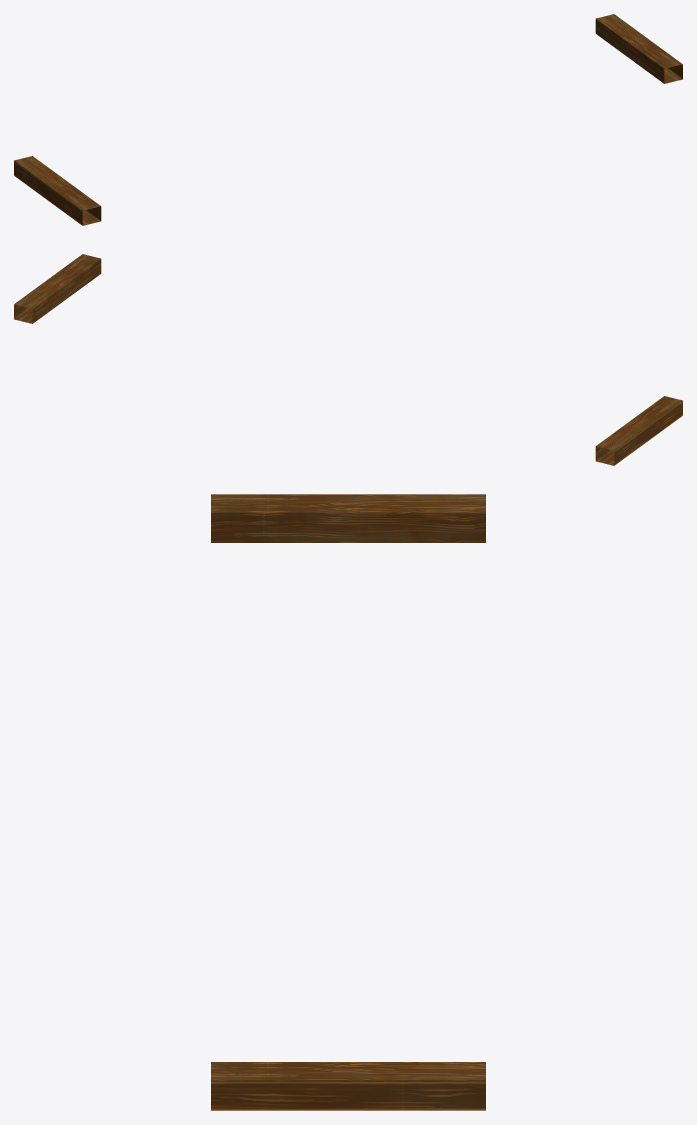
The picture shows the model from 3 angles, top to bottom: view 1: azimuth 30°, elevation 25°; view 2: azimuth 150°, elevation 25°; view 3: azimuth 270°, elevation 25°; orthographic projection. The views are drawn at different scales.
Visible parts, largest first — view 1: Cube.751; view 2: Cube.751; view 3: Cube.751.
Boxes of the visible parts, <box> form: Cube.751: <box>14,14,682,225</box>; Cube.751: <box>14,254,682,465</box>; Cube.751: <box>211,494,485,1110</box>.
Size of the model in its own units: 767 by 18.5 by 152.
1 material, 1 textured.
